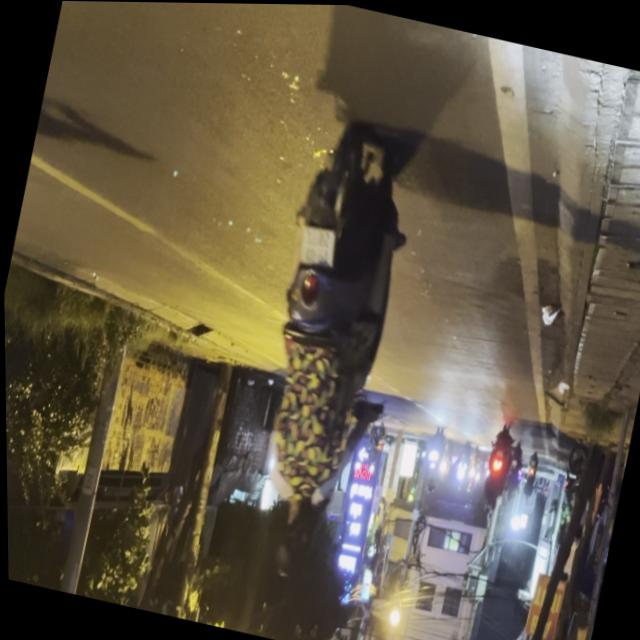helmet: (265, 486, 325, 584)
licenseplate: (213, 108, 435, 596)
nohelmet: (294, 224, 335, 267)
